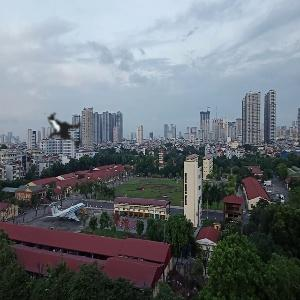drone: (18, 80, 118, 180)
